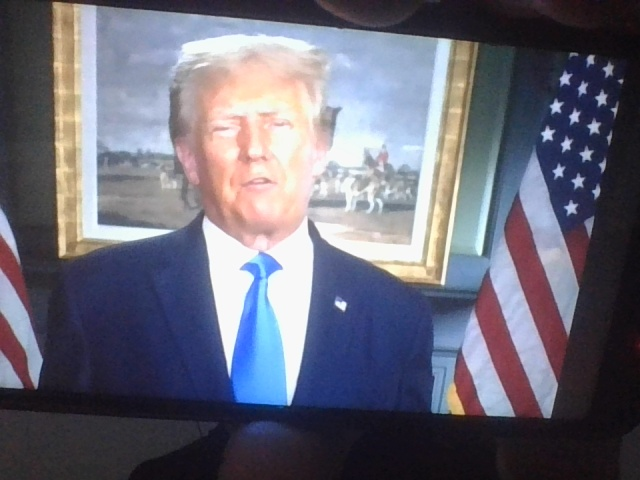fake: (192, 31, 333, 231)
